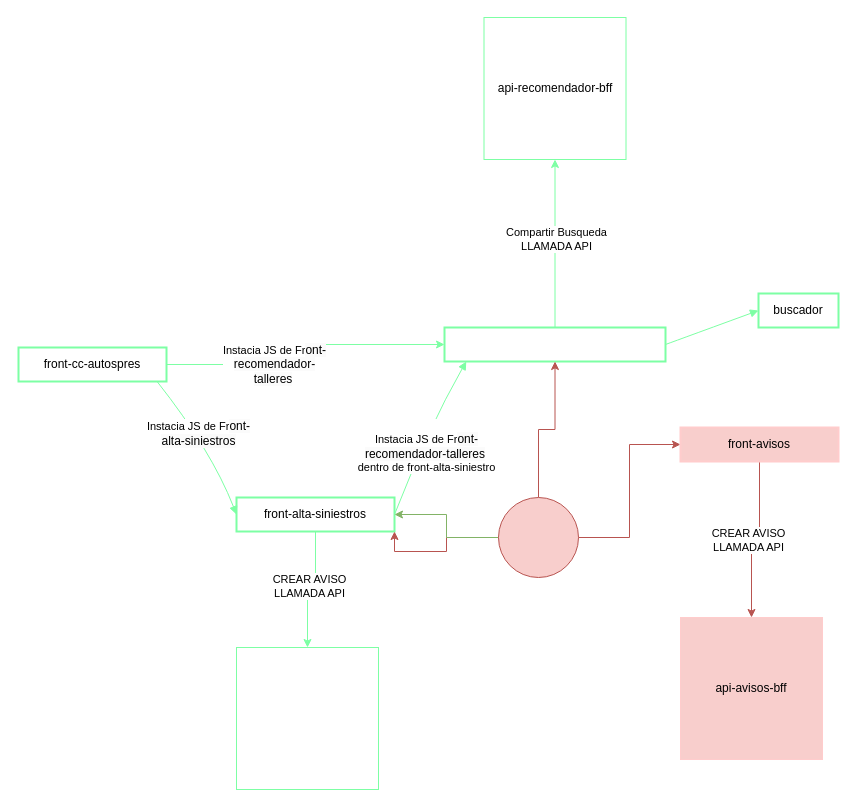
Some shapes in this 856 by 807 pixel diagram are drawn without their labels. The centre of each missing label's shape, as x and y in pixels:
"api-alta-siniestros-bff" belongs at (307,718).
"BOTÓN CREAR AVISO" belongs at (538,537).
"front-recomendador-talleres" belongs at (554,344).
